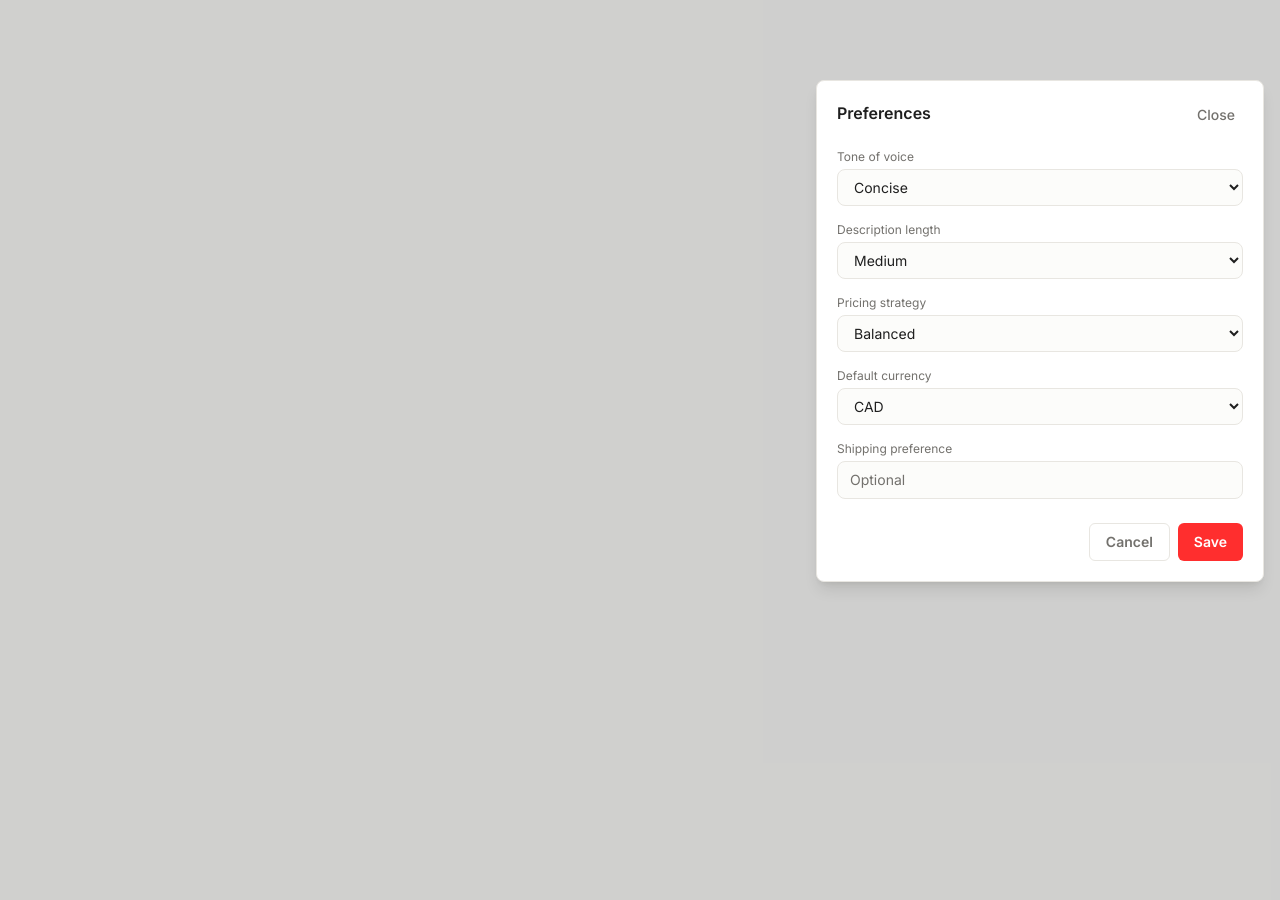
Test: PreferencesSettings › saves edited preferences through the typed API
Select "Professional" in the dropdown labelled "Tone of voice". click: (1040, 188)
box: [837,169,1243,206]
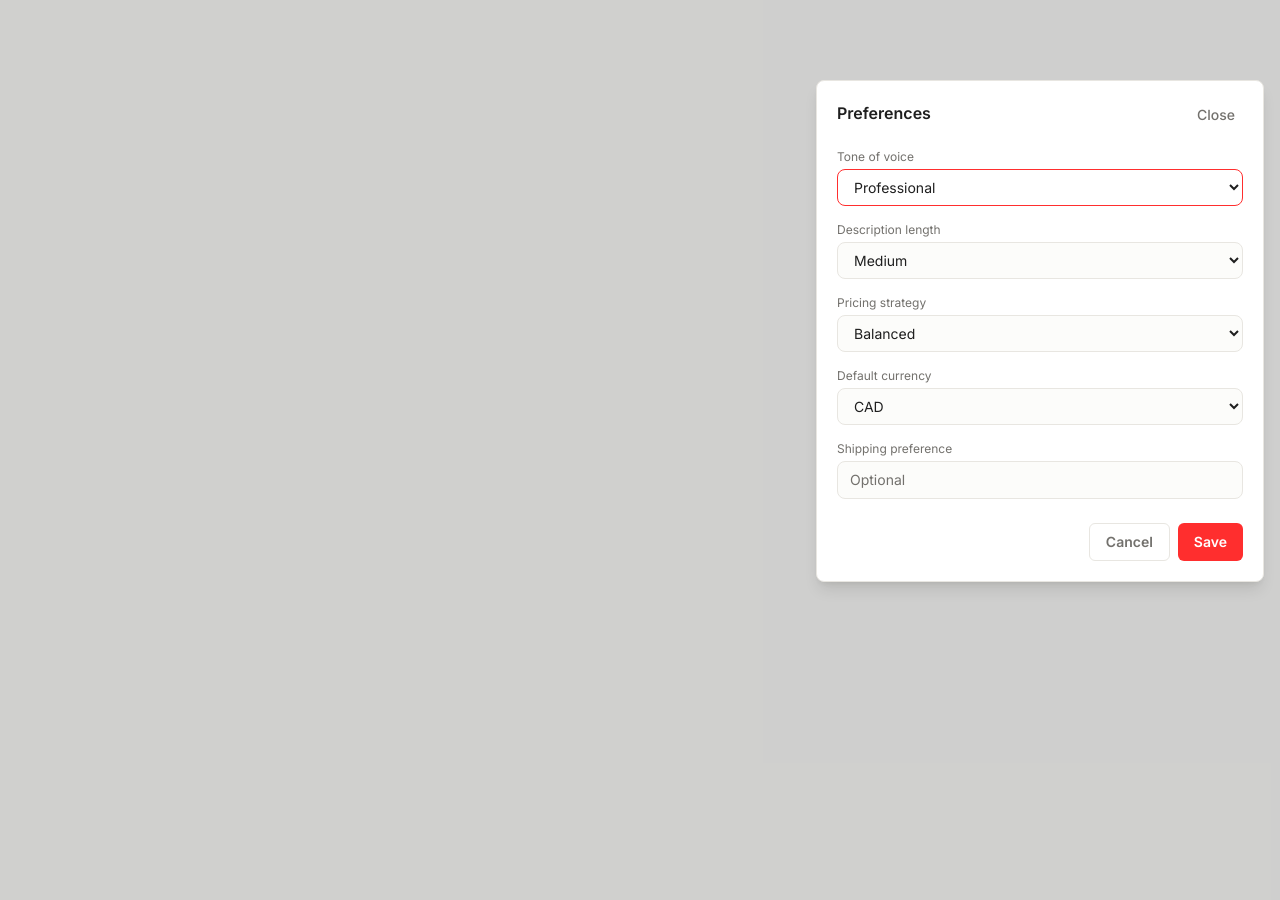
Select "Short" in the dropdown labelled "Description length". click: (1040, 260)
box: [837,242,1243,279]
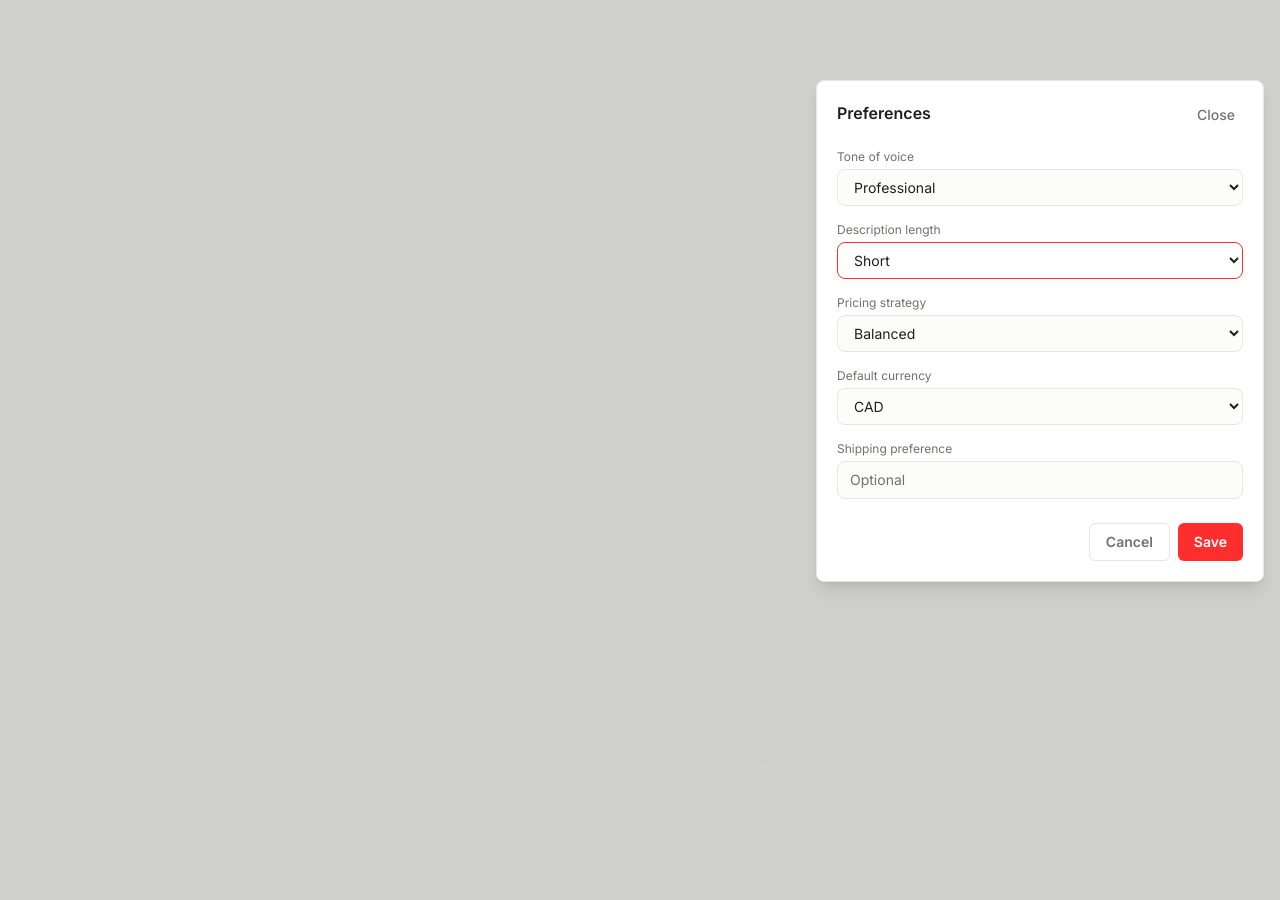
Select "Sell fast" in the dropdown labelled "Pricing strategy". click: (1040, 334)
box: [837,315,1243,352]
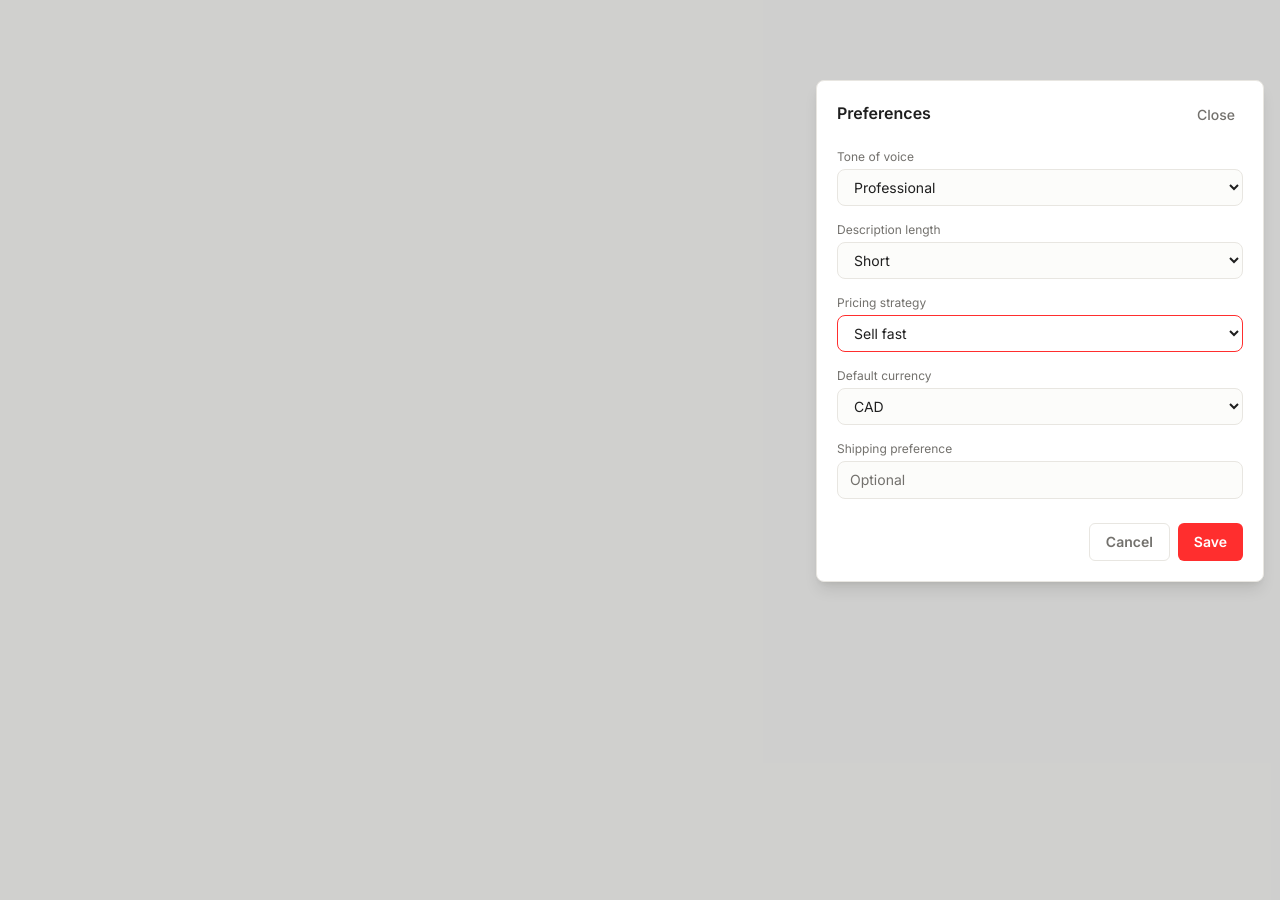
Type "Local pickup preferred" into the field labelled "Shipping preference". click: (1040, 480)
box: [837,461,1243,499]
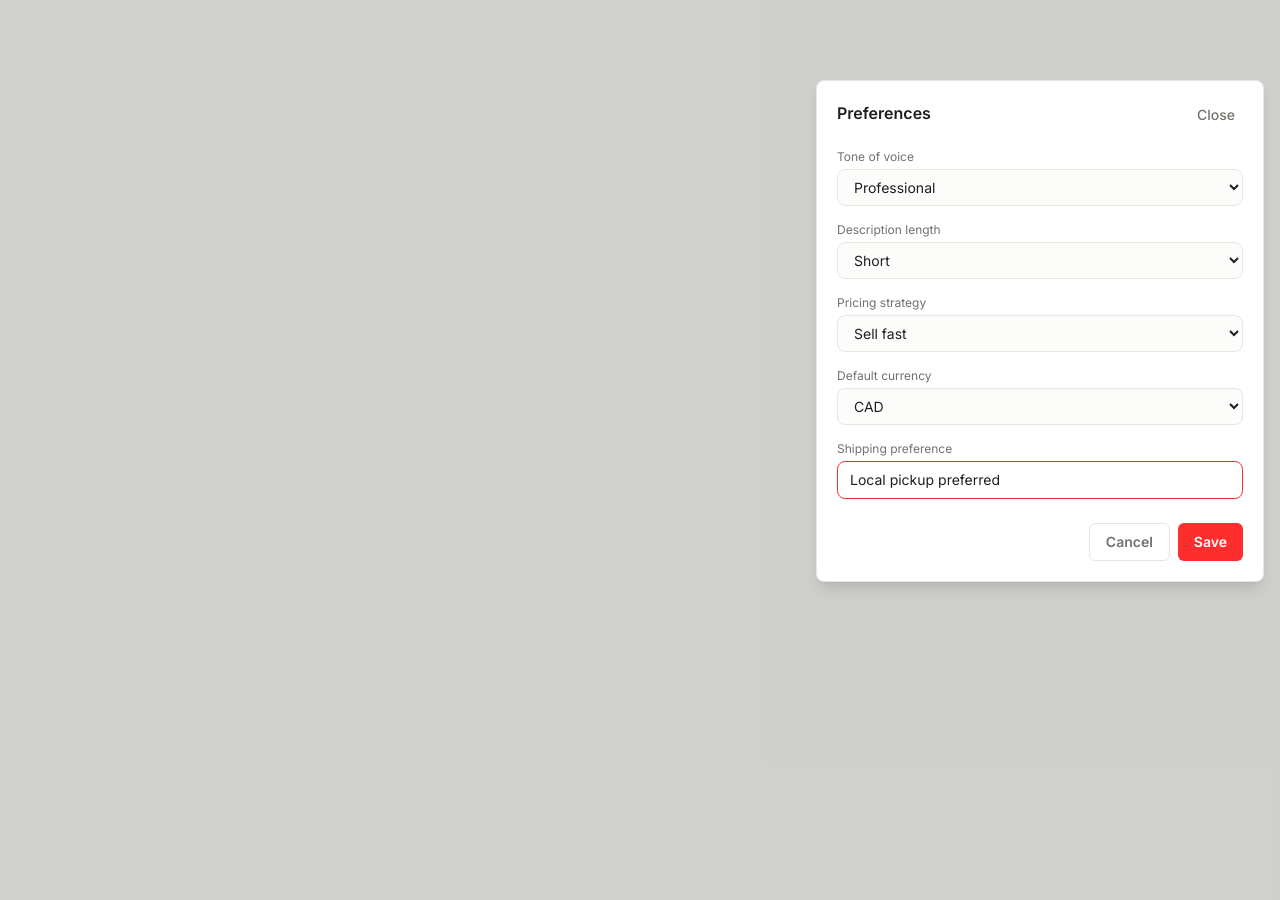
Click the button "Save". click: (1210, 542)
box: [1178,523,1243,561]
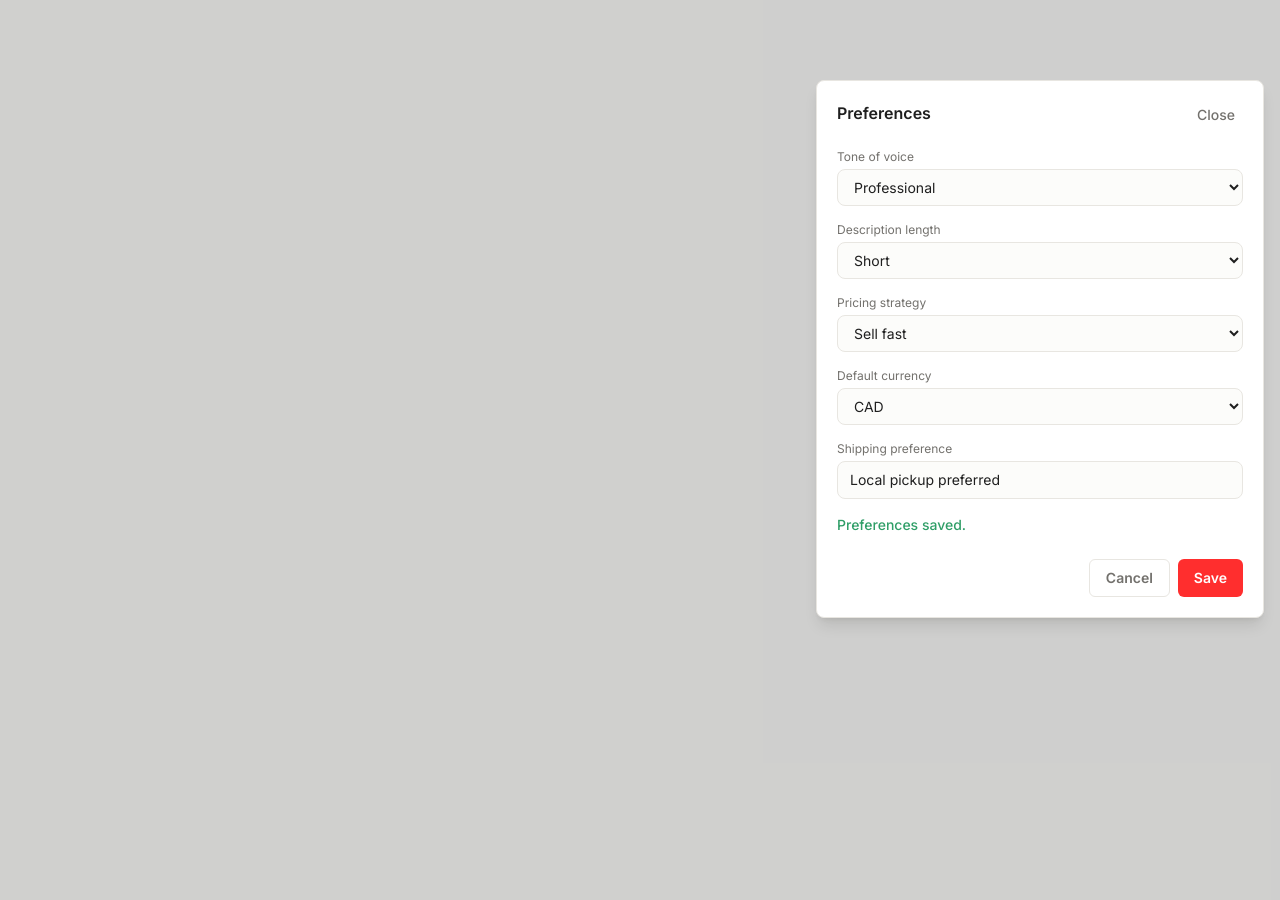
Result: the text "Preferences saved." is shown at [837,516,966,533]
